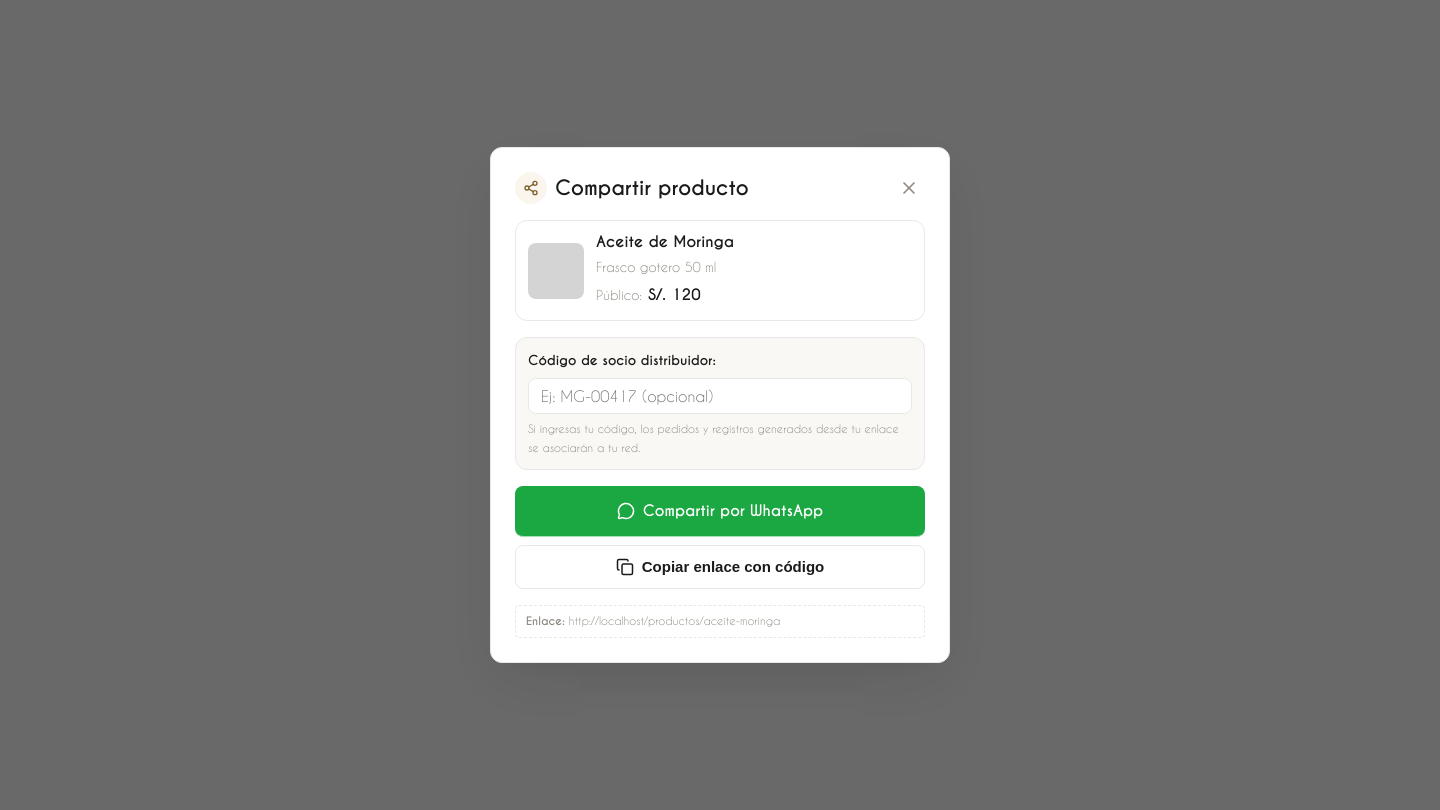
Test: Funcionalidad de Compartir Productos › 3 · Permite al socio escribir o cambiar su código y actualiza la URL y sessionStorage
The image size is (1440, 810).
In the field with test id "input-ref-code": (720, 396) [528,378,912,414], type "MG-99999"
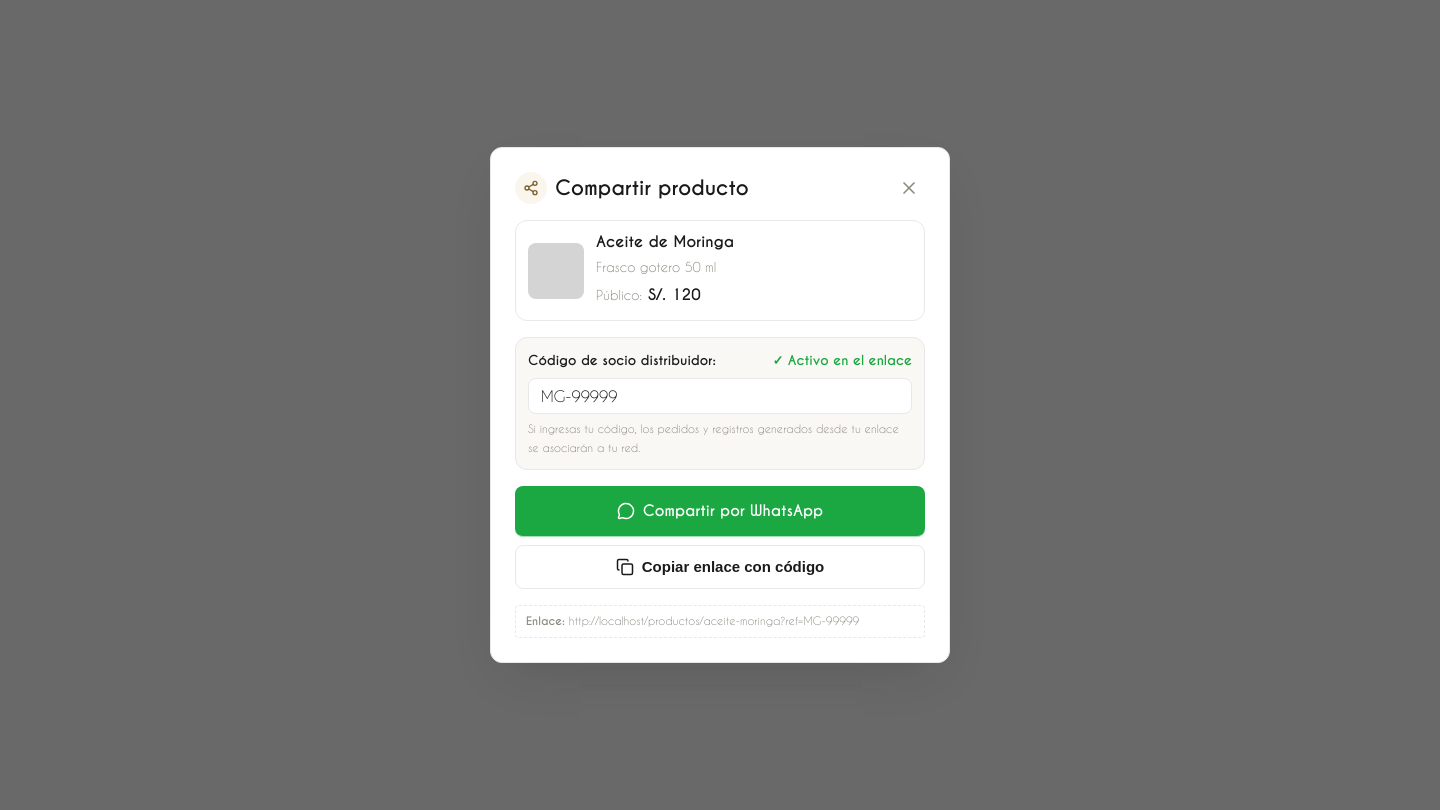
Now the text with test id "share-url-preview" shows "ref=MG-99999", box [569,614,859,627]
